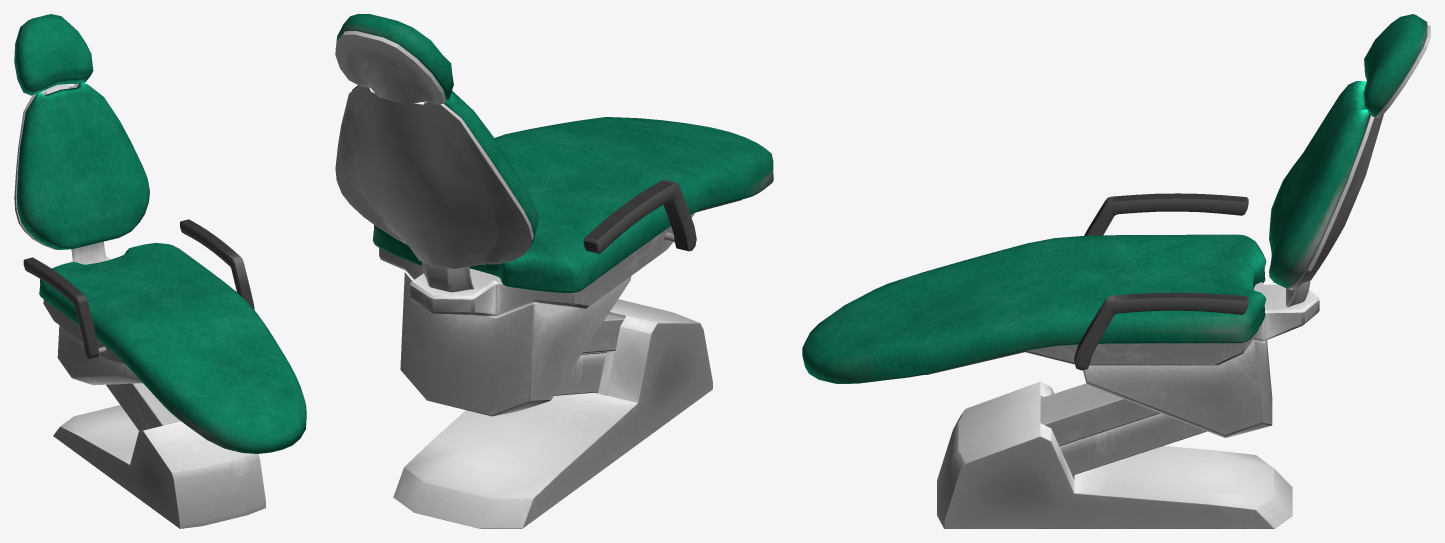
Rendered from dental_chair.fbx.
The picture shows the model from 3 angles, left to right: view 1: azimuth 30°, elevation 25°; view 2: azimuth 150°, elevation 25°; view 3: azimuth 270°, elevation 25°; orthographic projection. The views are drawn at different scales.
Parts seen in each view (by area): view 1: dental_chair, dental_chair_body, dental_chair_head; view 2: dental_chair, dental_chair_body, dental_chair_head; view 3: dental_chair, dental_chair_body, dental_chair_head.
Boxes of the visible parts, left/top/right/bottom form: dental_chair: left=23, top=219, right=306, bottom=528; dental_chair_body: left=14, top=81, right=149, bottom=264; dental_chair_head: left=14, top=14, right=93, bottom=95; dental_chair: left=372, top=117, right=773, bottom=528; dental_chair_body: left=335, top=85, right=538, bottom=292; dental_chair_head: left=335, top=14, right=453, bottom=104; dental_chair: left=802, top=193, right=1319, bottom=528; dental_chair_body: left=1269, top=81, right=1383, bottom=307; dental_chair_head: left=1364, top=14, right=1430, bottom=117.
Size of the model in its own units: 0.643 by 1.36 by 1.61.
